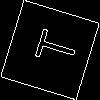T: (25, 25, 80, 68)
